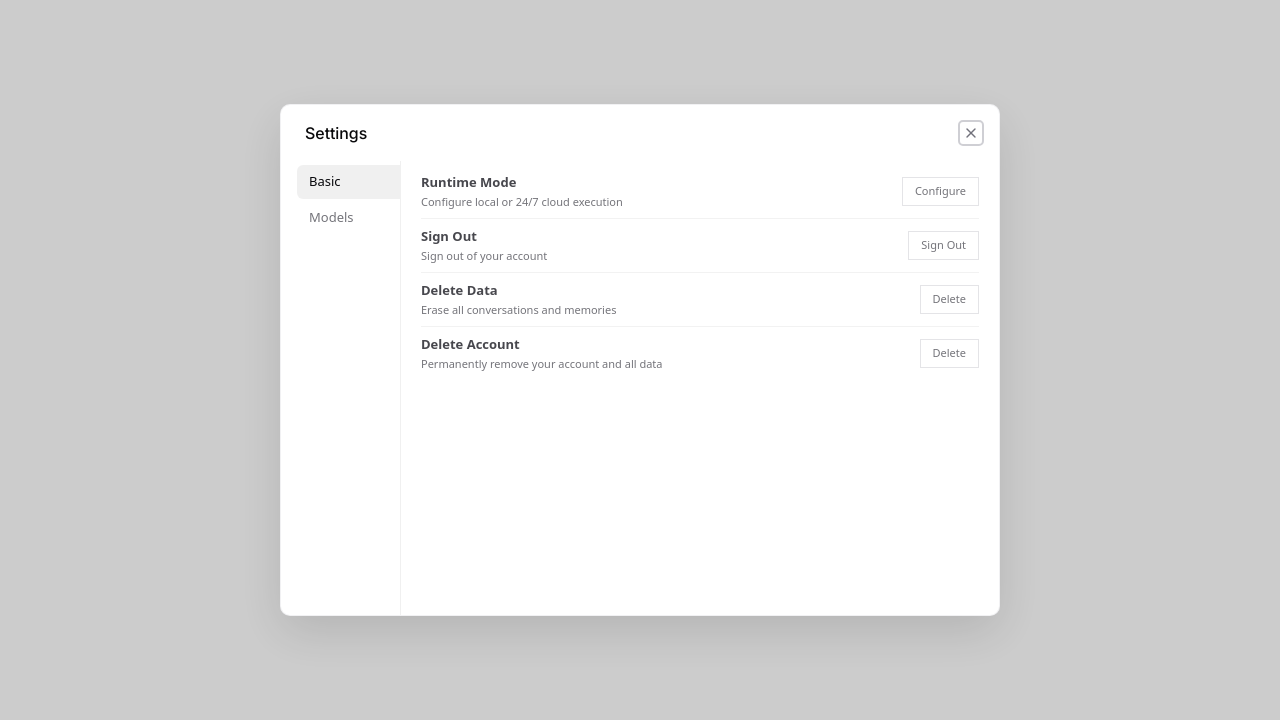
it: ModelConfigSection › selects have current value from overrides
This screenshot has width=1280, height=720.
Click the button "Models" at (348, 217), box [297,200,400,234]
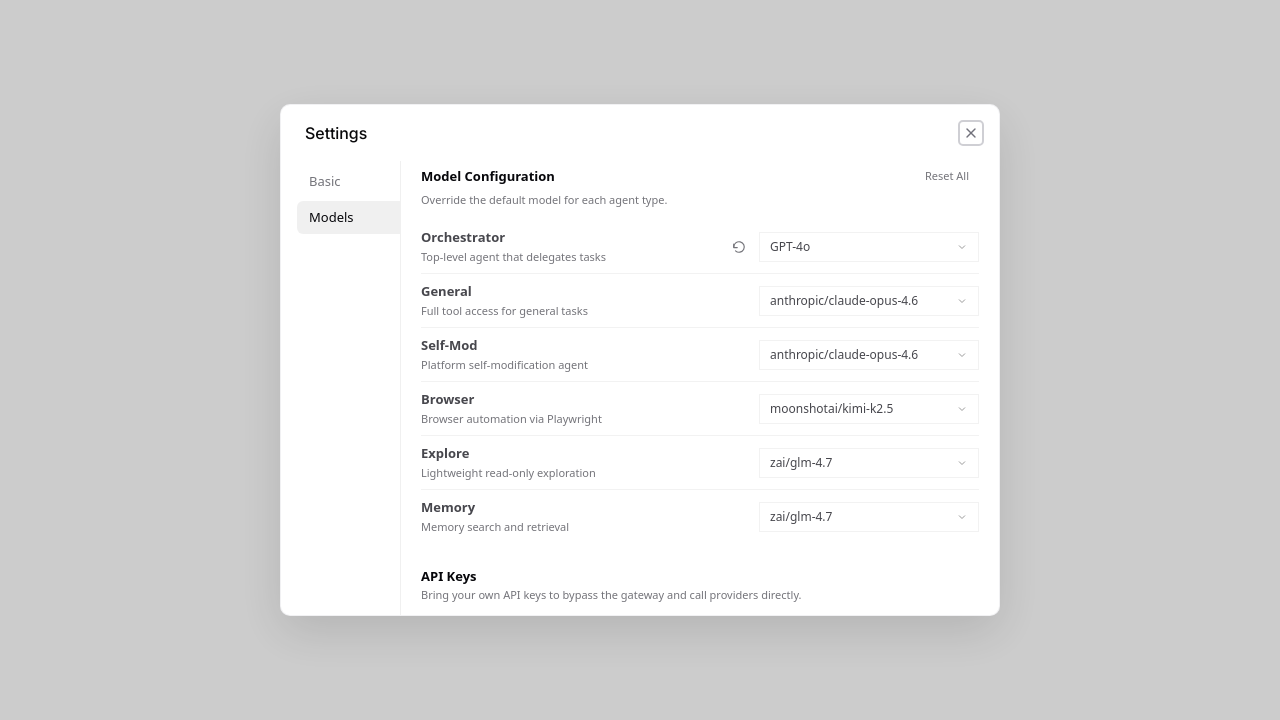
expect the dropdown with class "settings-model-select" next to "Top-level agent that delegates tasks" shows "GPT-4o": met, box [759,232,979,262]
expect the dropdown with class "settings-model-select" in the row of "Full tool access for general tasks" shows "anthropic/claude-opus-4.6": met, box [759,286,979,316]
